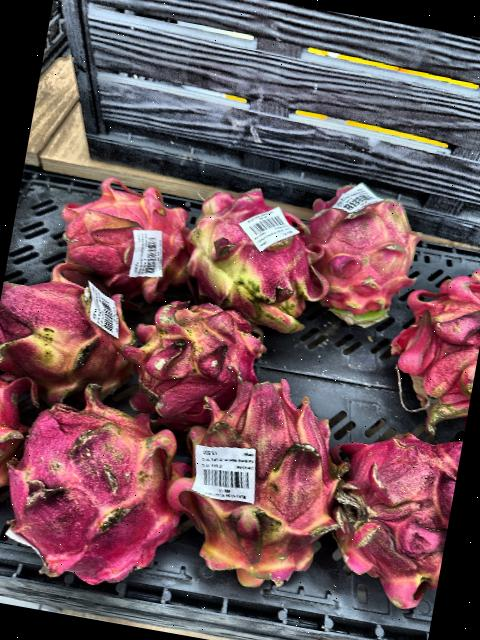buah-naga-belum-matang: (162, 368, 358, 590), (169, 177, 338, 336), (0, 255, 153, 405), (115, 286, 266, 416), (298, 181, 426, 331)
buah-naga-matang: (0, 378, 200, 594), (311, 412, 463, 609), (38, 160, 200, 293), (381, 252, 480, 433), (0, 358, 37, 534)
